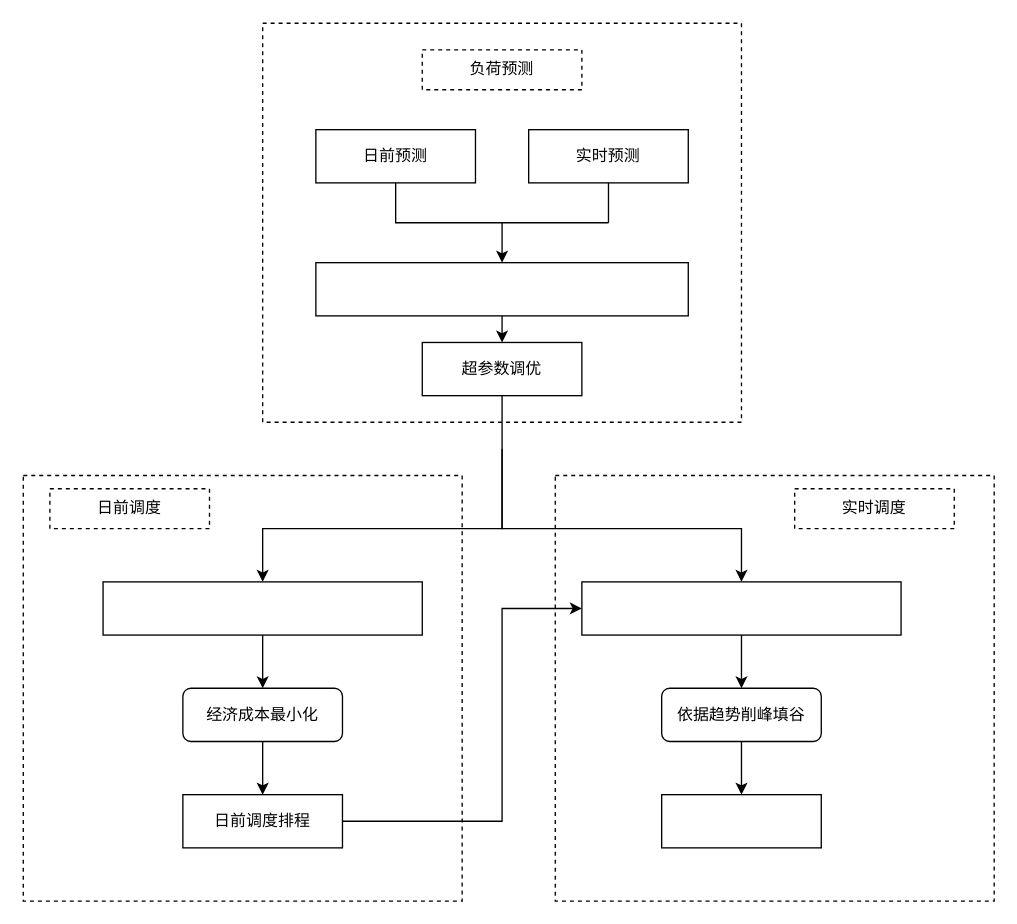
Image size: 1017x924. Some labels were removed from this diagram. The shapes that lost their labels are listed below. From the top down, each one's centre as x and y in pixels, then its label:
[501,288]: 预测方法：LSTM、MLP、KNN
[262,608]: 影响因素：分时电价、需量计费等
[741,608]: 影响因素：负荷波动趋势，最大需量
[740,820]: 实时调控钢包炉档位
